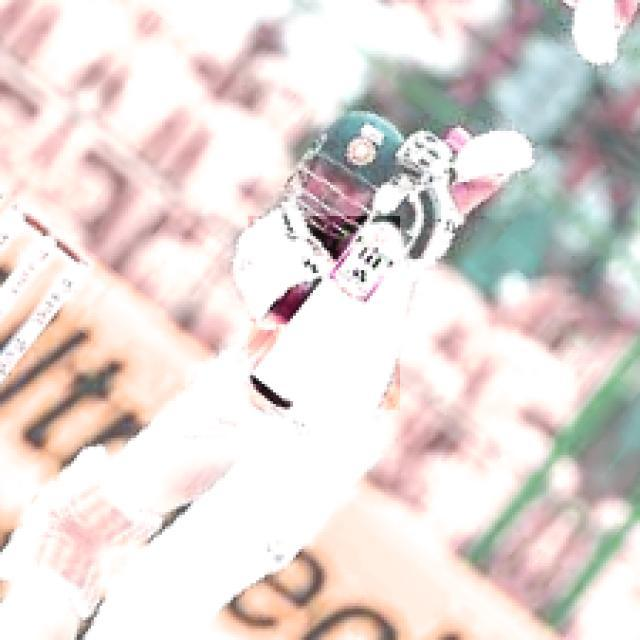bat: (250, 215, 394, 416)
toe: (248, 376, 294, 409)
